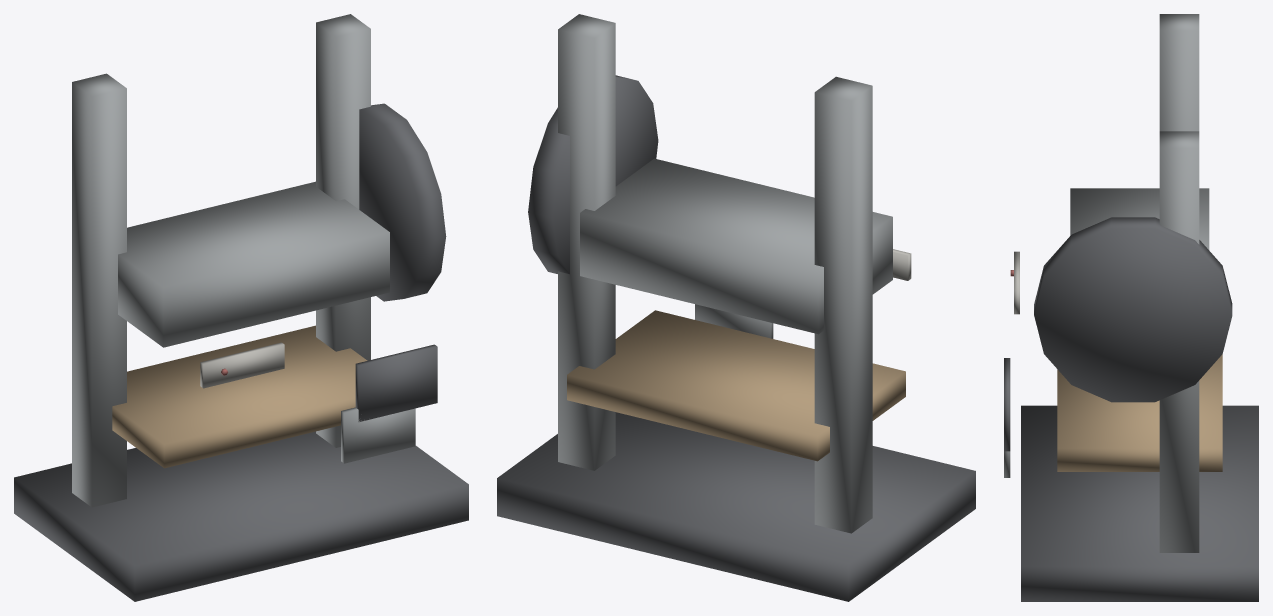
File: letterpress_silhouette__weathered.glb
The picture shows the model from 3 angles, left to right: view 1: azimuth 30°, elevation 25°; view 2: azimuth 150°, elevation 25°; view 3: azimuth 270°, elevation 25°; orthographic projection. The views are drawn at different scales.
Visible parts, largest first — view 1: world; view 2: world; view 3: world.
Boxes of the visible parts, left/top/right/bottom form: world: left=14, top=14, right=468, bottom=601; world: left=497, top=14, right=975, bottom=601; world: left=1004, top=14, right=1258, bottom=601.
Bounding box in the file's own units: 1.15 × 1.47 × 0.7709.
